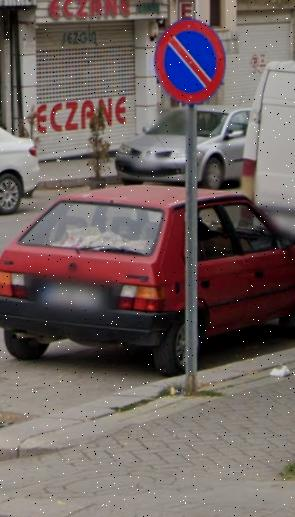nopark: (159, 19, 224, 103)
